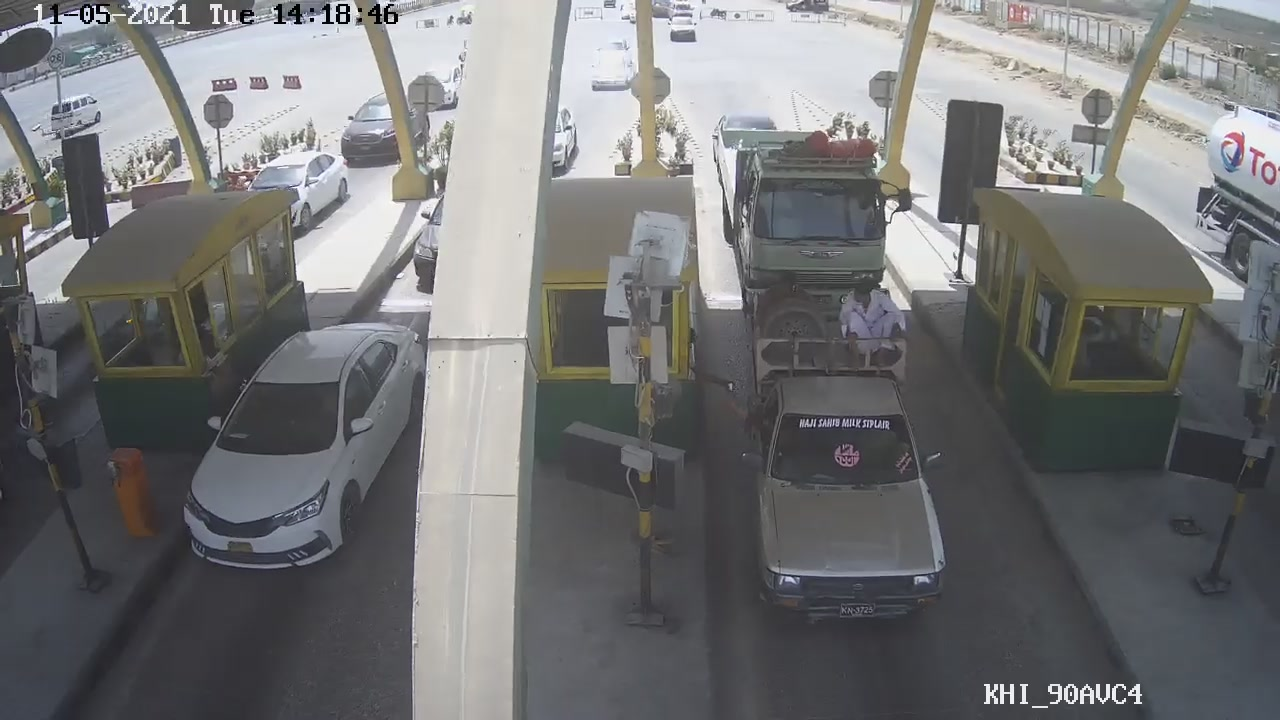F2: (745, 313, 959, 633)
